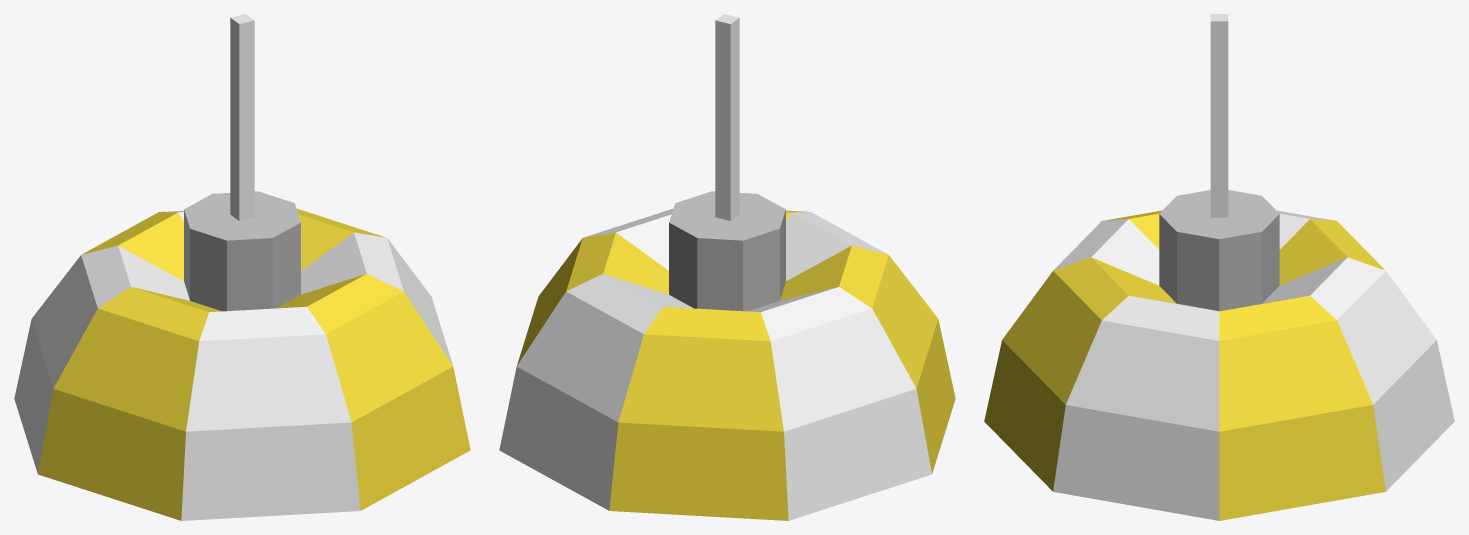
Rendered from zhuangshi_05.FBX.
3 views of the same model, side by side, from view 1: azimuth 30°, elevation 25°; view 2: azimuth 150°, elevation 25°; view 3: azimuth 270°, elevation 25° (orthographic).
Parts seen in each view (by area): view 1: zhuangshi_05; view 2: zhuangshi_05; view 3: zhuangshi_05.
Boxes of the visible parts, <box> form: zhuangshi_05: <box>14,14,470,520</box>; zhuangshi_05: <box>499,14,955,520</box>; zhuangshi_05: <box>984,14,1454,520</box>.
Size of the model in its own units: 94.28 by 89.26 by 94.28.
